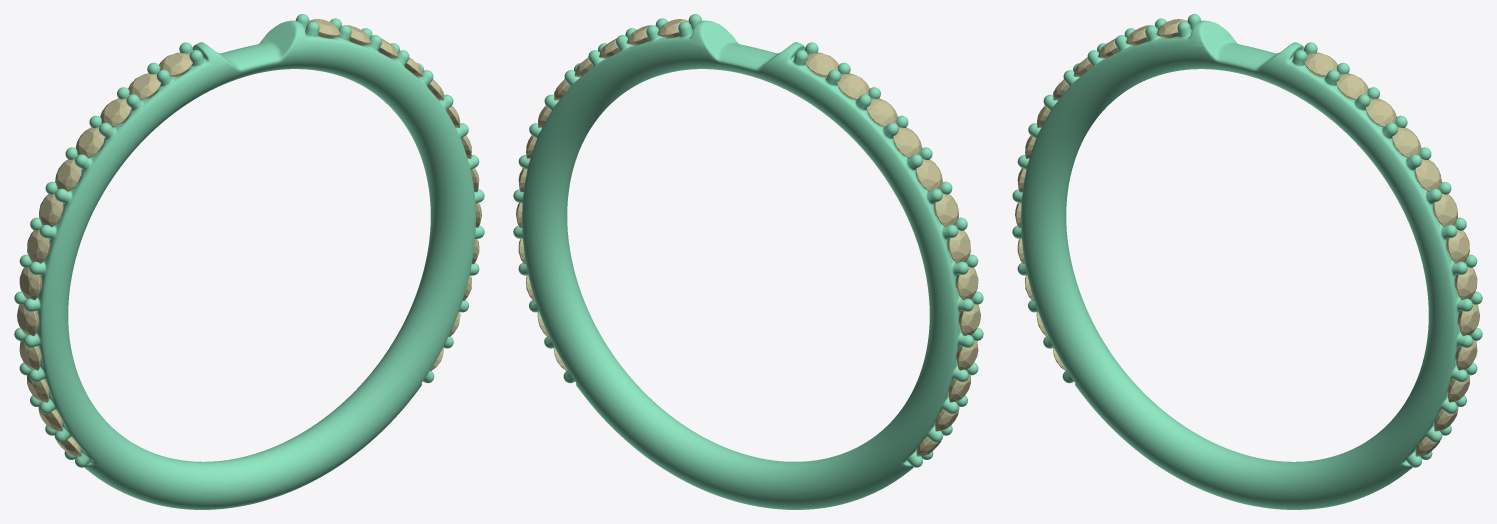
The picture shows the model from 3 angles, left to right: view 1: azimuth 30°, elevation 25°; view 2: azimuth 150°, elevation 25°; view 3: azimuth 330°, elevation 25°; orthographic projection.
Visible parts, largest first — view 1: Metal02, Diamond_Gem.023, Diamond_Gem.024, Diamond_Gem.022, Diamond_Gem.021, Diamond_Gem.025, Diamond_Gem.020, Diamond_Gem.014, Diamond_Gem.013; view 2: Metal02, Diamond_Gem.023, Diamond_Gem.024, Diamond_Gem.022, Diamond_Gem.021, Diamond_Gem.025, Diamond_Gem.020, Diamond_Gem.014, Diamond_Gem.013; view 3: Metal02, Diamond_Gem.003, Diamond_Gem.002, Diamond_Gem.004, Diamond_Gem.005, Diamond_Gem.001, Diamond_Gem.006, Diamond_Gem, Diamond_Gem.007.
Part boxes in pixels (box(x1,y1,x2,y2)): Metal02: box(14, 14, 484, 509); Diamond_Gem.023: box(75, 127, 104, 158); Diamond_Gem.024: box(100, 98, 131, 127); Diamond_Gem.022: box(55, 159, 81, 191); Diamond_Gem.021: box(39, 193, 63, 226); Diamond_Gem.025: box(128, 73, 160, 99); Diamond_Gem.020: box(27, 229, 50, 263); Diamond_Gem.014: box(159, 52, 192, 76); Diamond_Gem.013: box(19, 267, 42, 300); Metal02: box(513, 14, 983, 509); Diamond_Gem.023: box(893, 127, 922, 158); Diamond_Gem.024: box(866, 98, 897, 127); Diamond_Gem.022: box(916, 159, 942, 191); Diamond_Gem.021: box(934, 193, 958, 226); Diamond_Gem.025: box(837, 73, 869, 99); Diamond_Gem.020: box(947, 229, 970, 263); Diamond_Gem.014: box(805, 52, 838, 76); Diamond_Gem.013: box(955, 266, 978, 300); Metal02: box(1012, 14, 1482, 509); Diamond_Gem.003: box(1392, 127, 1421, 158); Diamond_Gem.002: box(1365, 98, 1396, 127); Diamond_Gem.004: box(1415, 159, 1441, 191); Diamond_Gem.005: box(1433, 193, 1457, 226); Diamond_Gem.001: box(1336, 73, 1368, 99); Diamond_Gem.006: box(1446, 229, 1469, 263); Diamond_Gem: box(1304, 52, 1337, 76); Diamond_Gem.007: box(1454, 267, 1477, 300).
Size of the model in its own units: 21.64 by 21.14 by 1.89.
